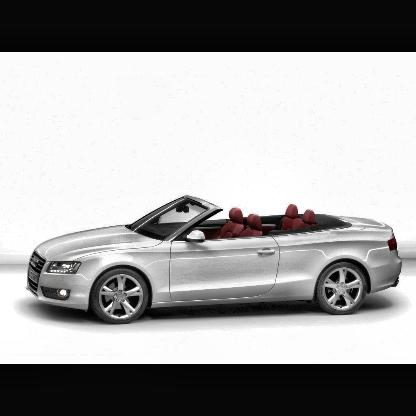Audi S5 Convertible 2012: (29, 197, 404, 324)
